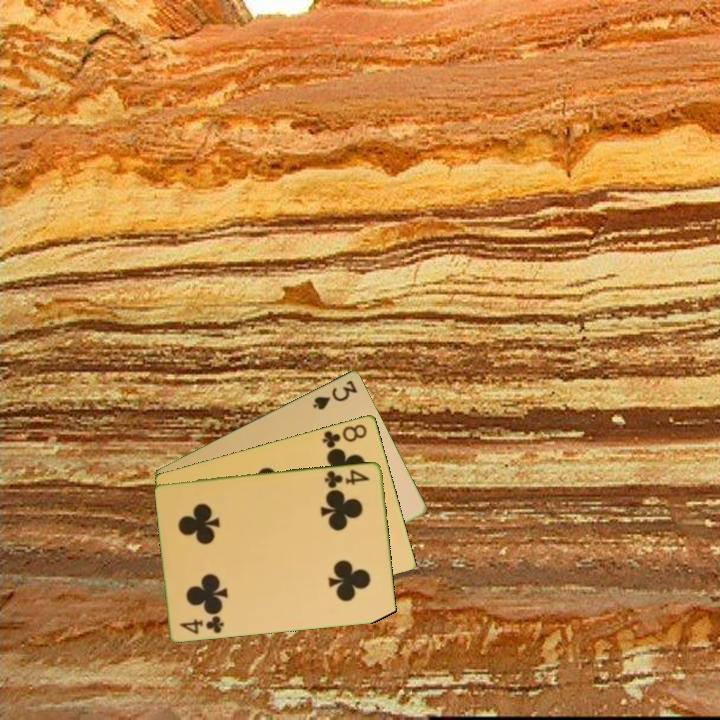3s: (309, 376, 361, 413)
4c: (321, 466, 372, 491), (176, 612, 227, 637)
8c: (319, 420, 370, 451)
